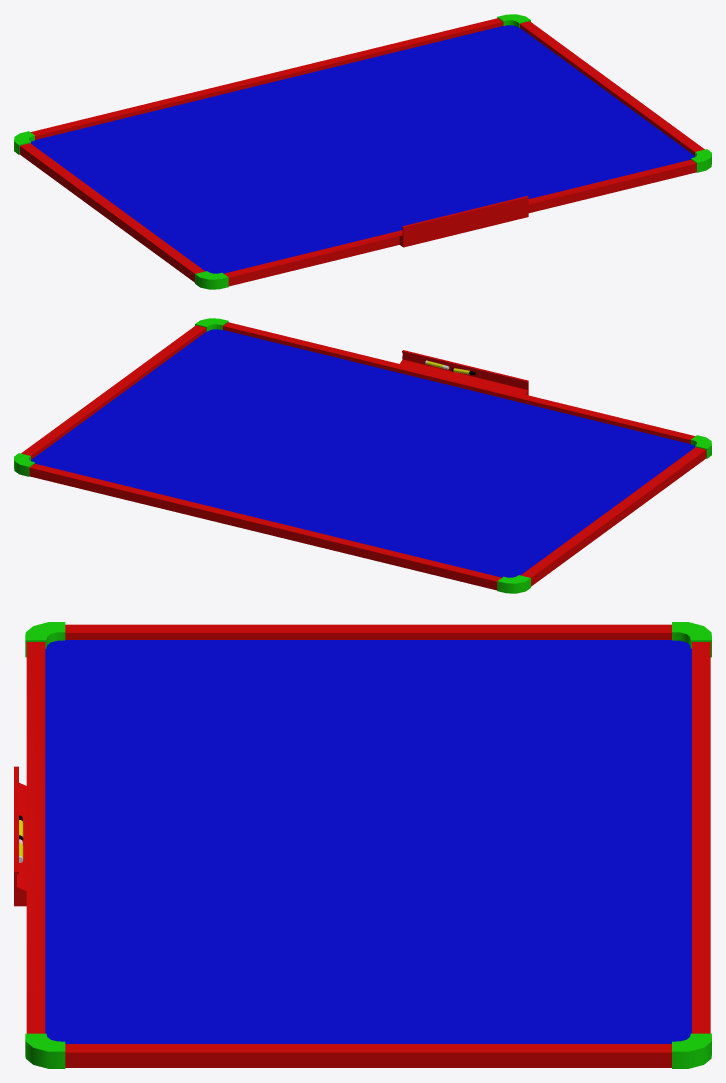
Rendered from whiteboard_combined_auto.fbx.
3 renders of one model, top to bottom at view 1: azimuth 30°, elevation 25°; view 2: azimuth 150°, elevation 25°; view 3: azimuth 270°, elevation 25°, orthographic. The views are drawn at different scales.
Parts seen in each view (by area): view 1: board_comb; view 2: board_comb; view 3: board_comb.
Part boxes in pixels (x1,y1,x2,y2): board_comb: [14, 14, 711, 289]; board_comb: [14, 318, 711, 593]; board_comb: [14, 622, 711, 1068].
Bounding box in the file's own units: 149 × 5.61 × 102.
